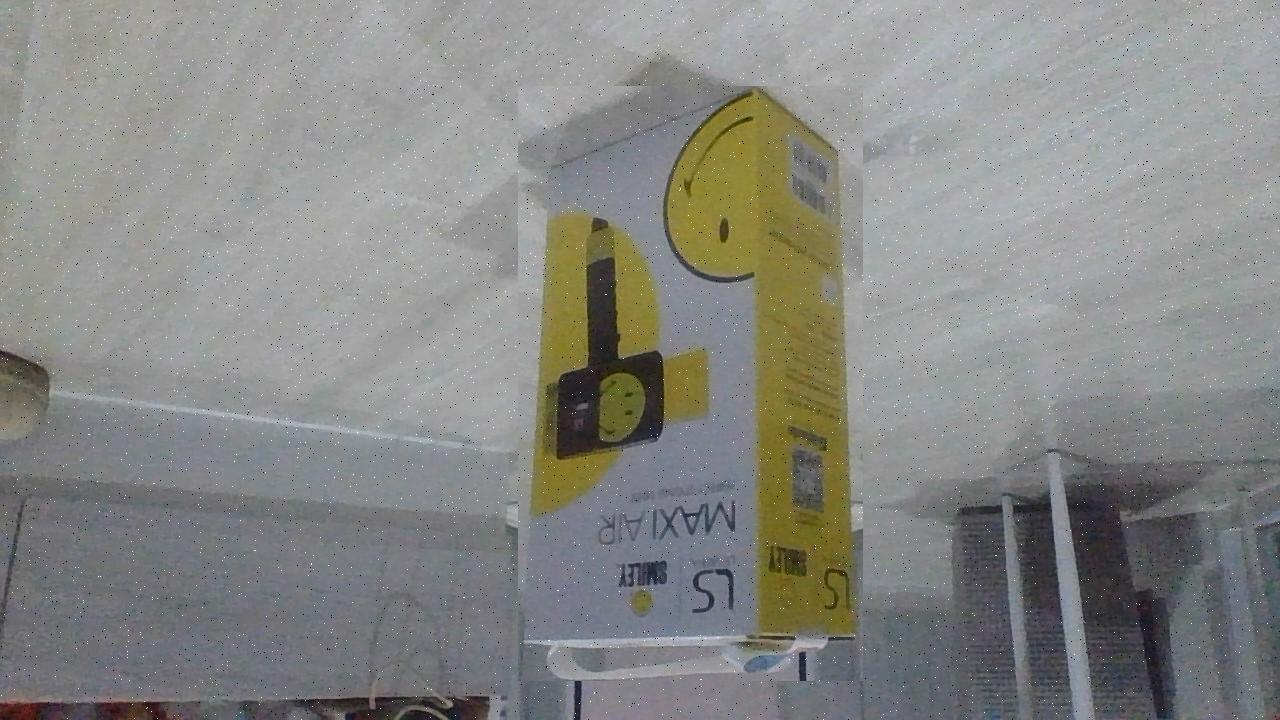Dryer: (518, 86, 863, 681)
